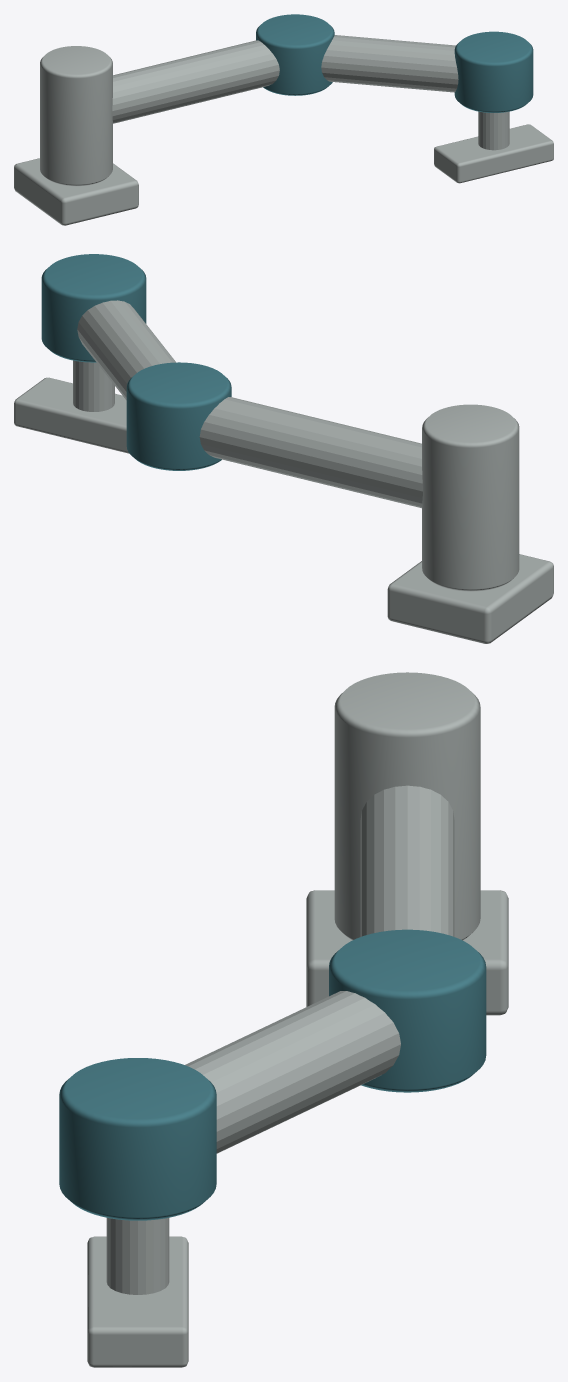
File: optician-and-optical-lens-workshop-optician-and-optica-3dfb9d2e__31670.glb
3 views of the same model, one above another, from view 1: azimuth 30°, elevation 25°; view 2: azimuth 150°, elevation 25°; view 3: azimuth 270°, elevation 25° (orthographic). The views are drawn at different scales.
Visible parts, largest first — view 1: optician-and-optical-lens-workshop-articulated-phoropter-arm (×2); view 2: optician-and-optical-lens-workshop-articulated-phoropter-arm (×2); view 3: optician-and-optical-lens-workshop-articulated-phoropter-arm (×2).
Part boxes in pixels (left/top/right/bottom): optician-and-optical-lens-workshop-articulated-phoropter-arm (×2): left=14, top=14, right=553, bottom=225; optician-and-optical-lens-workshop-articulated-phoropter-arm (×2): left=14, top=254, right=553, bottom=643; optician-and-optical-lens-workshop-articulated-phoropter-arm (×2): left=59, top=672, right=508, bottom=1367.
Size of the model in its own units: 0.9 by 0.275 by 0.4.
